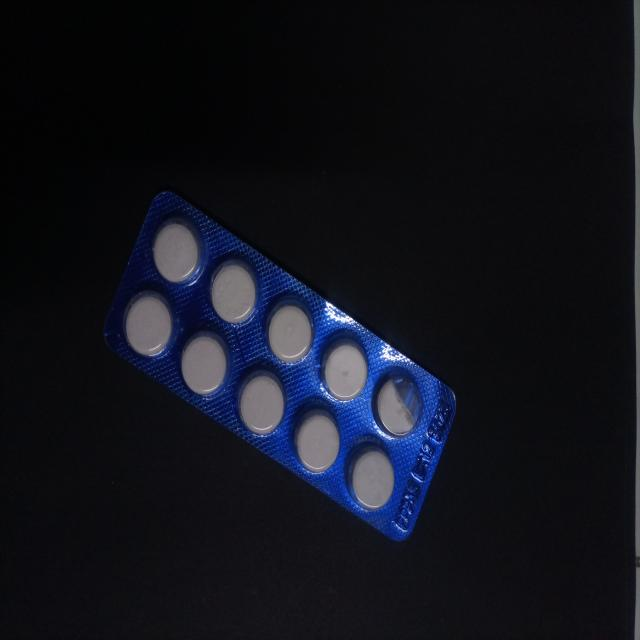defect: (369, 367, 426, 440)
